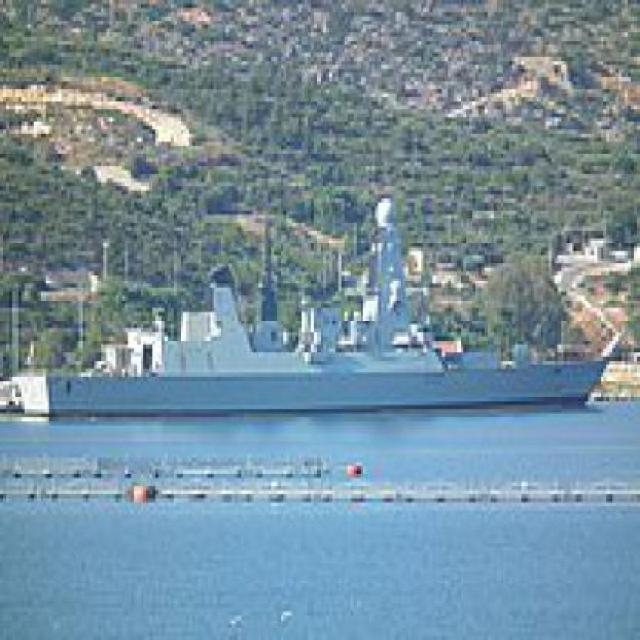warship2: (22, 167, 608, 443)
